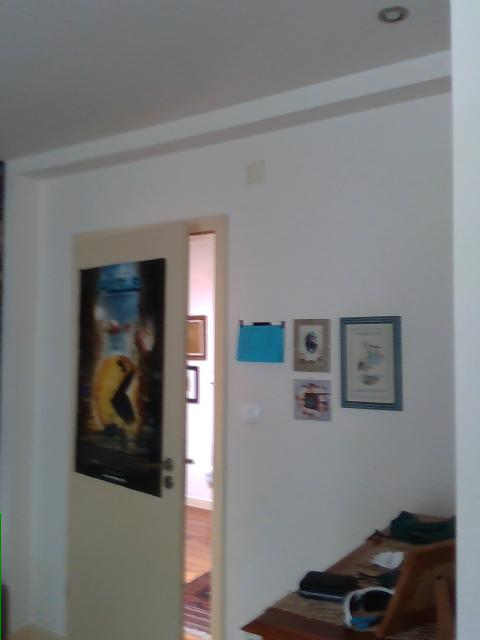semi_door: (59, 212, 230, 639)
